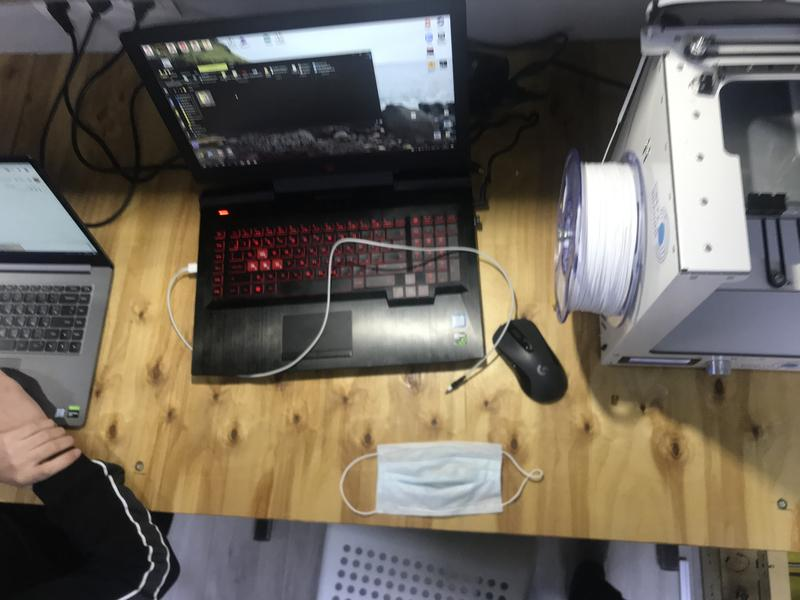medical_mask: (340, 444, 545, 514)
